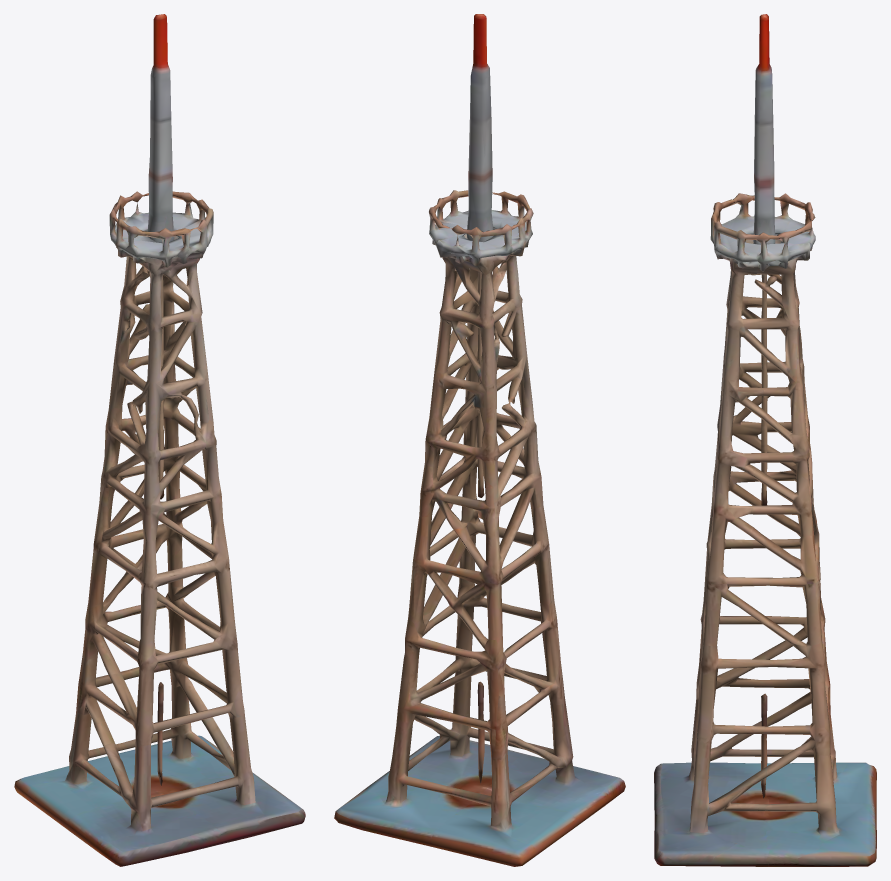
File: radio_tower.glb
The picture shows the model from 3 angles, left to right: view 1: azimuth 30°, elevation 25°; view 2: azimuth 150°, elevation 25°; view 3: azimuth 270°, elevation 25°; orthographic projection.
Visible parts, largest first — view 1: tripo_node_5e68cf3f-9969-4bf7-a29c-03a1d41175d1; view 2: tripo_node_5e68cf3f-9969-4bf7-a29c-03a1d41175d1; view 3: tripo_node_5e68cf3f-9969-4bf7-a29c-03a1d41175d1.
Boxes of the visible parts, box(x1,y1,x2,y2) form: tripo_node_5e68cf3f-9969-4bf7-a29c-03a1d41175d1: box(14, 14, 305, 866); tripo_node_5e68cf3f-9969-4bf7-a29c-03a1d41175d1: box(334, 14, 625, 866); tripo_node_5e68cf3f-9969-4bf7-a29c-03a1d41175d1: box(654, 14, 876, 866).
Size of the model in its own units: 0.2347 by 0.9322 by 0.2332.
1 material, 1 textured.
